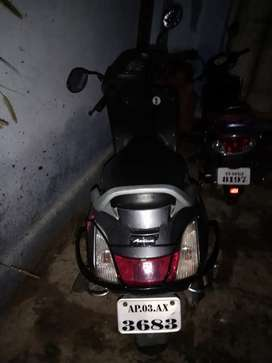doublelinenumberplate: (115, 297, 182, 334)
